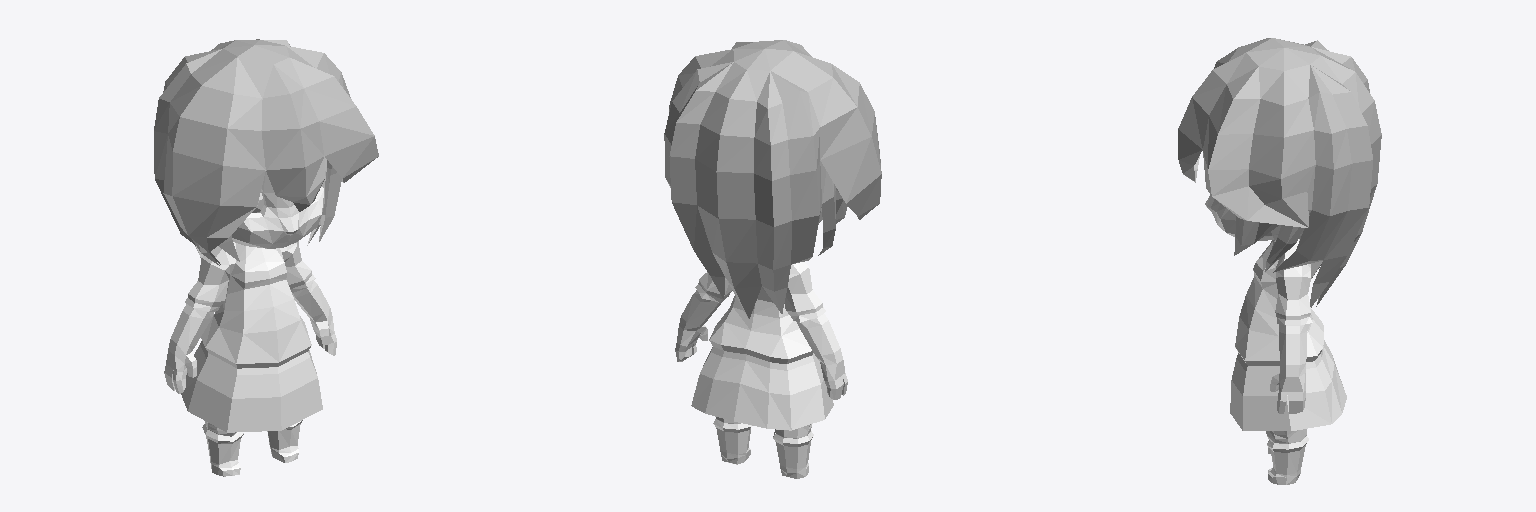
File: eumi.obj
3 renders of one model, left to right at view 1: azimuth 30°, elevation 25°; view 2: azimuth 150°, elevation 25°; view 3: azimuth 270°, elevation 25°, orthographic.
Parts seen in each view (by area): view 1: hair, clothing, body; view 2: hair, clothing, body; view 3: hair, clothing, body.
Part boxes in pixels (x1,y1,x2,y2): hair: (154, 39, 378, 265); clothing: (181, 242, 322, 476); body: (164, 158, 336, 436); hair: (664, 40, 881, 318); clothing: (691, 262, 833, 478); body: (675, 208, 847, 438); hair: (1178, 38, 1381, 307); clothing: (1230, 240, 1346, 484); body: (1205, 195, 1309, 443).
Bounding box in the file's own units: 8.06 × 16.31 × 7.21.